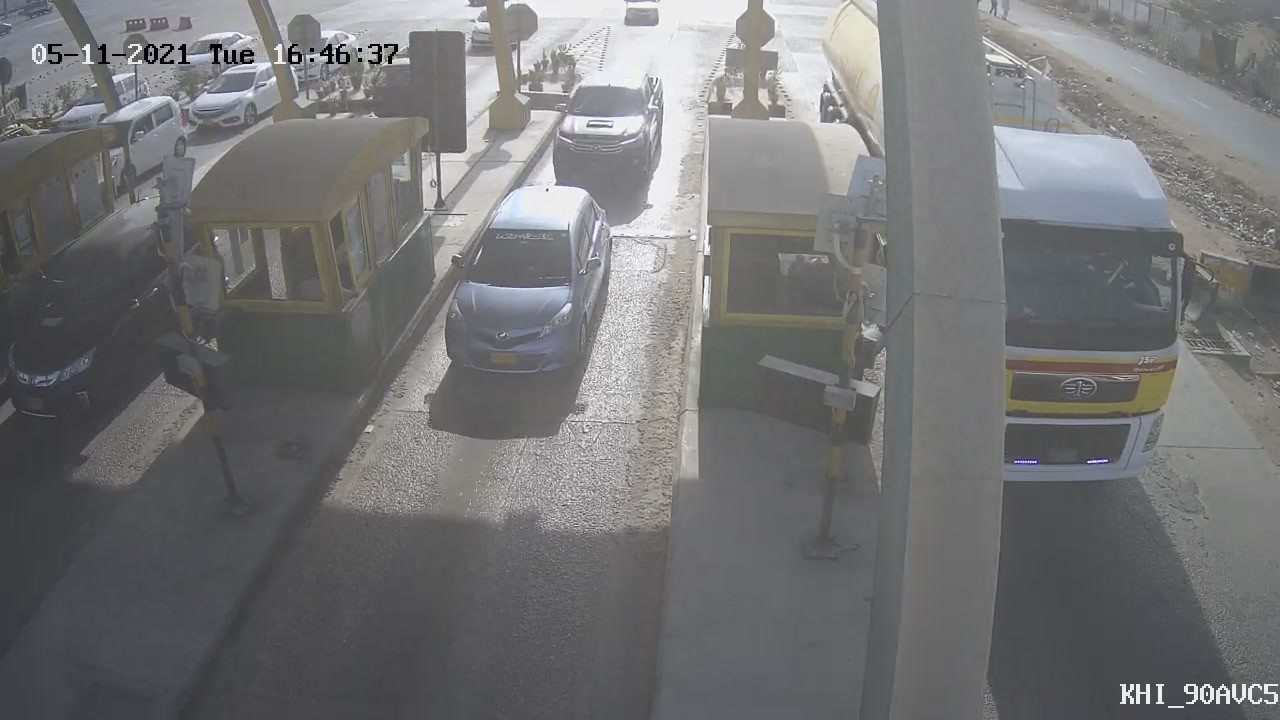F1: (421, 170, 625, 401), (540, 51, 676, 204)
